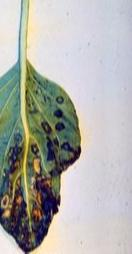Tomato leaf bacterial spot: (0, 54, 89, 254)
